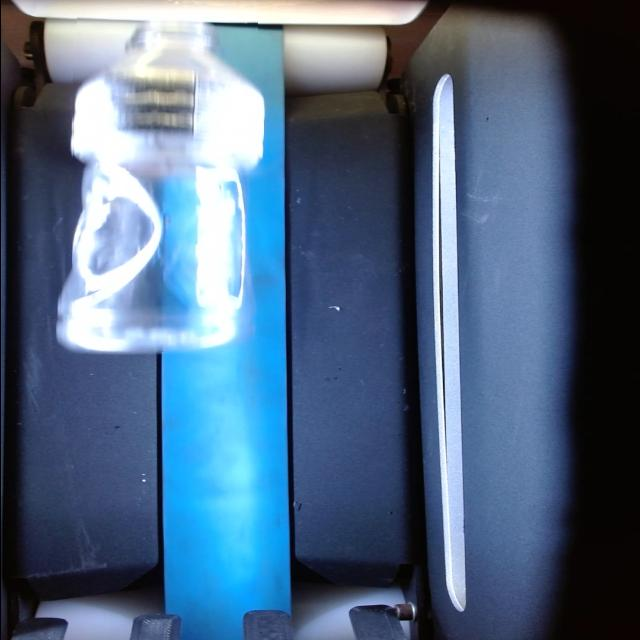bottom: (59, 164, 245, 352)
label: (72, 67, 262, 173)
neck: (76, 17, 256, 86)
